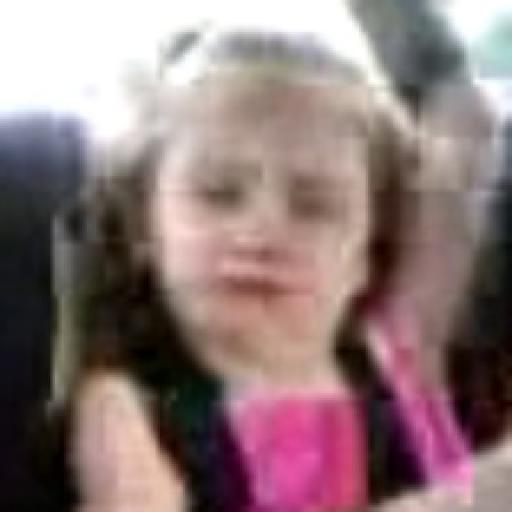Autism: (72, 45, 432, 397)
